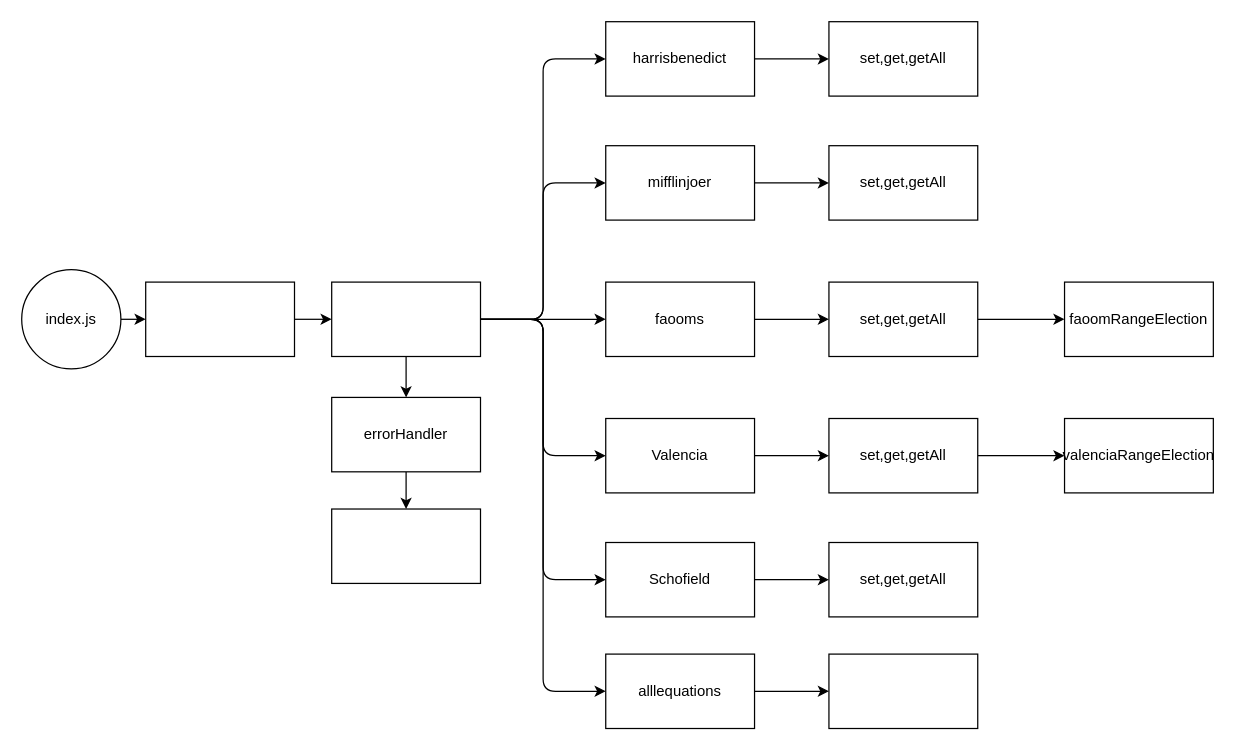
The diagram is 1236 pixels wide and 750 high, and some of its shapes have lost their labels. Each missing label, with the centre of its shape:
getAllEquationsData: the point at 903,690
Middleware: the point at 405,318
routerApi: the point at 219,318
validatorHandler: the point at 405,545
